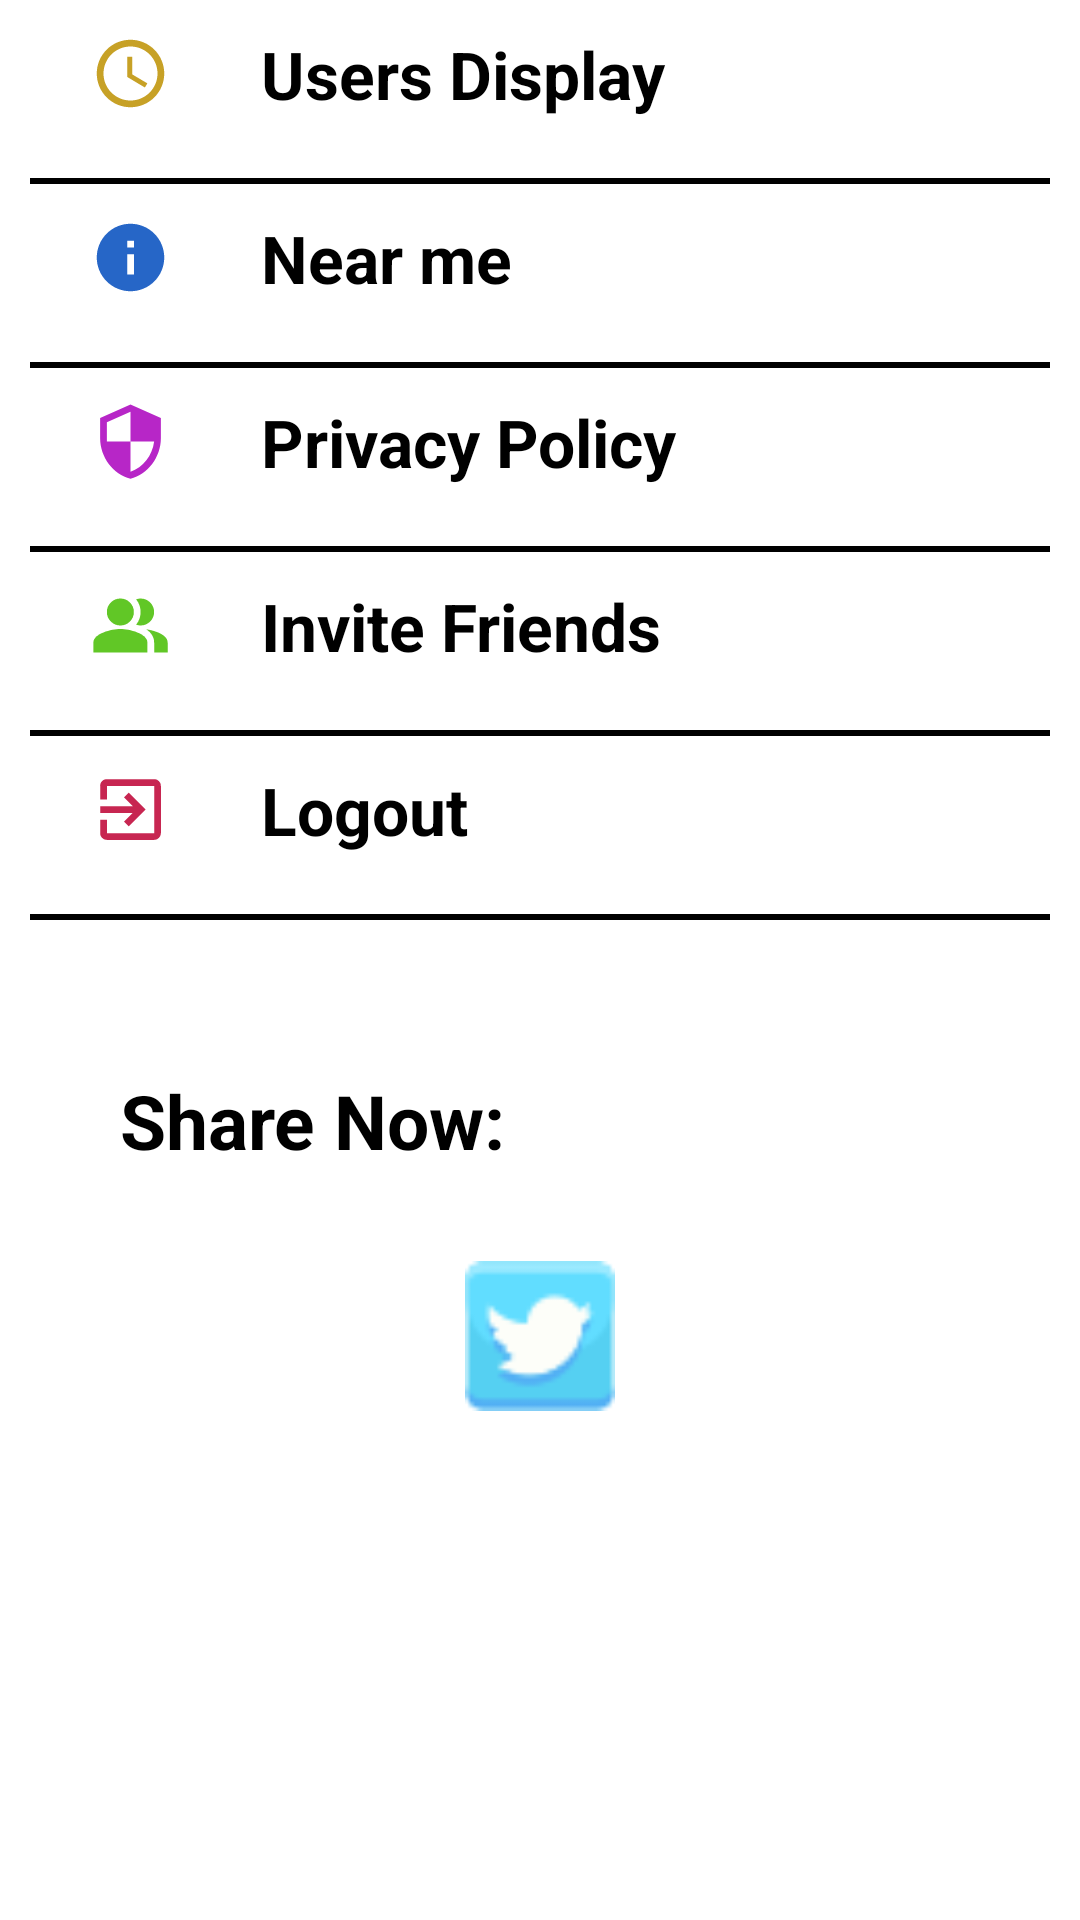

Named icons in this screenshot (1080w x 1920h) and their centers, (x=x, y=y):
aboutus: (x=130, y=257)
history: (x=130, y=73)
